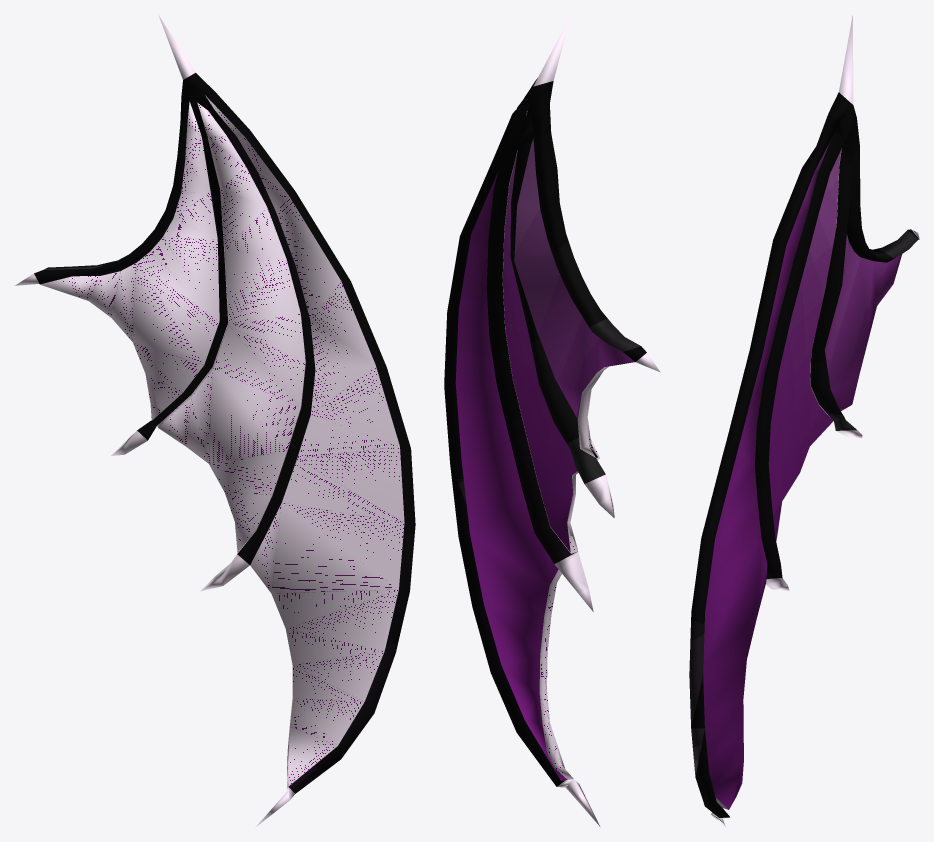
Rendered from wingsL.glb.
3 views of the same model, side by side, from view 1: azimuth 30°, elevation 25°; view 2: azimuth 150°, elevation 25°; view 3: azimuth 270°, elevation 25° (orthographic). The views are drawn at different scales.
Visible parts, largest first — view 1: succubuswingsL; view 2: succubuswingsL; view 3: succubuswingsL.
Boxes of the visible parts, bbox=[...] form: succubuswingsL: bbox=[14, 14, 415, 827]; succubuswingsL: bbox=[444, 15, 660, 826]; succubuswingsL: bbox=[689, 15, 919, 827].
Bounding box in the file's own units: 0.4467 × 1.14 × 0.2978.
Materials: 1 (1 with a texture image).
